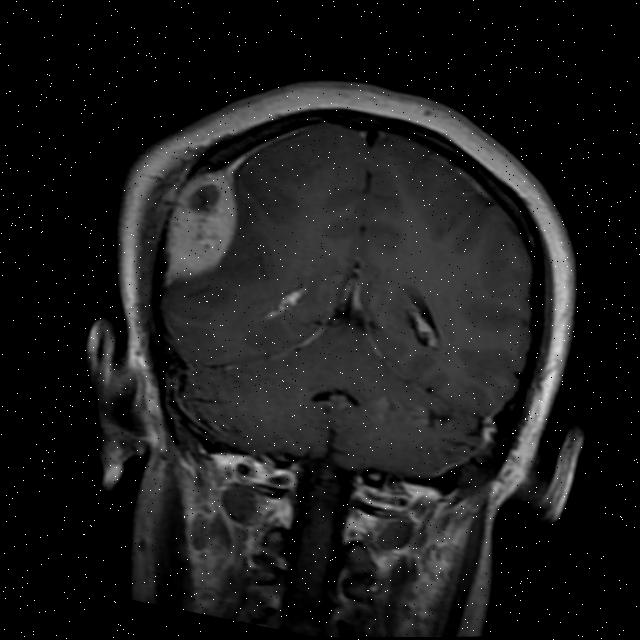Meningioma: (149, 143, 257, 300)
